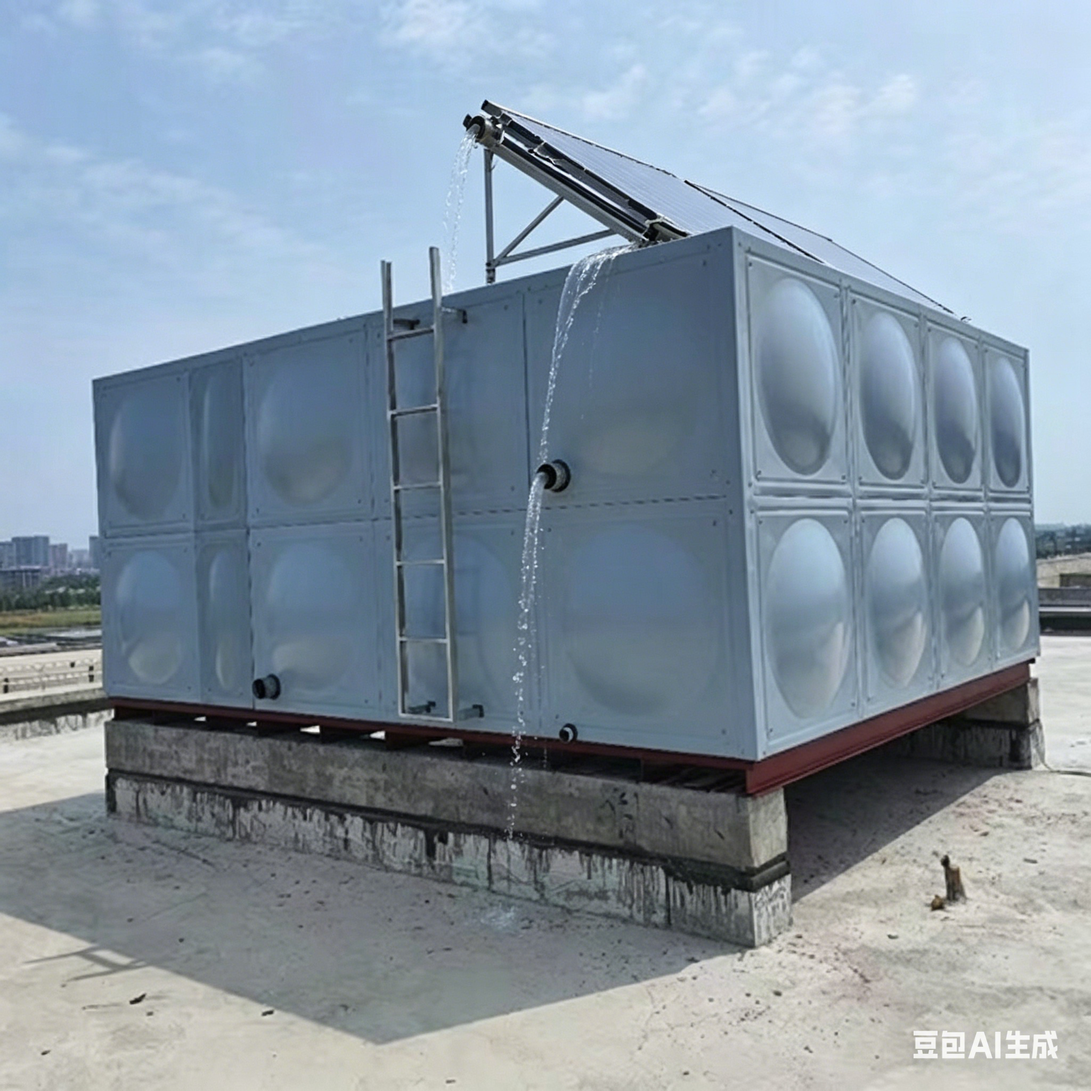Leakage: (489, 469, 570, 937), (517, 251, 624, 465), (435, 112, 501, 245)
